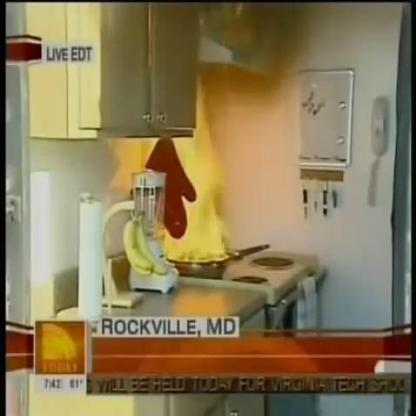fire: (143, 73, 240, 260)
